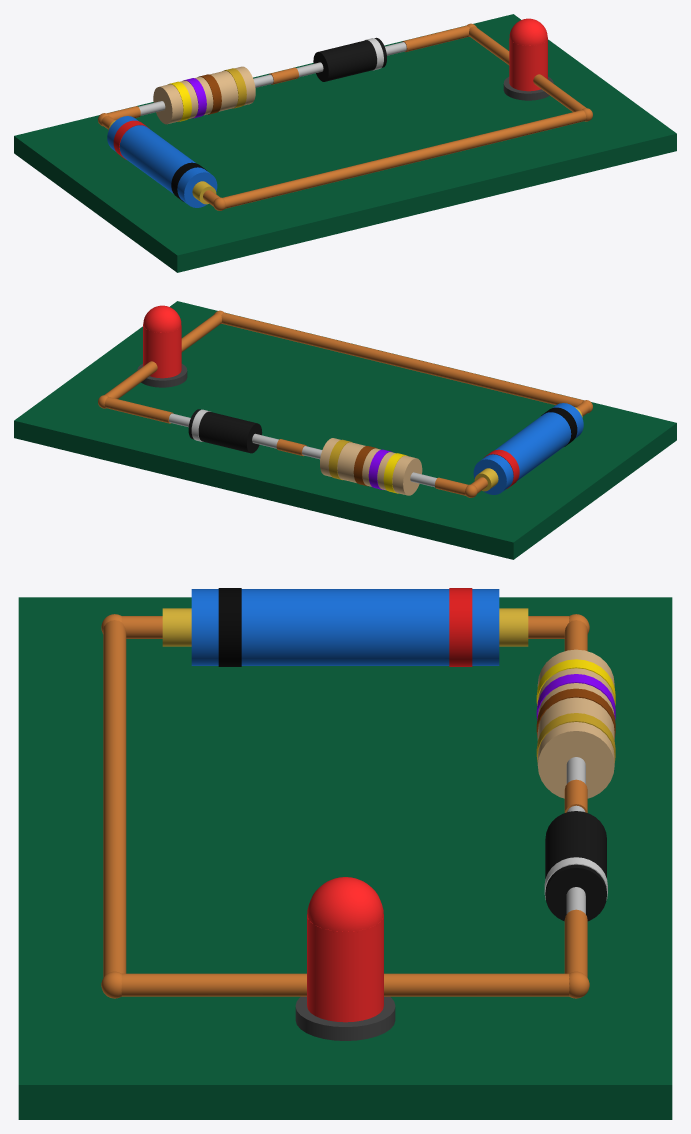
The model's file is rangkaian_dioda.glb.
The picture shows the model from 3 angles, top to bottom: view 1: azimuth 30°, elevation 25°; view 2: azimuth 150°, elevation 25°; view 3: azimuth 270°, elevation 25°; orthographic projection. The views are drawn at different scales.
Bounding box in the file's own units: 0.6 × 0.1 × 0.34.
